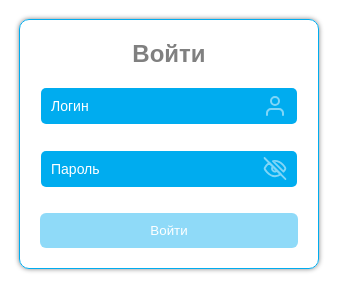
auth › We should know about typos in login or password
This screenshot has width=339, height=289.
Step 1. Type "john1" into the field named "login" → {"x": 169, "y": 107}, box x1=41 y1=89 x2=297 y2=125
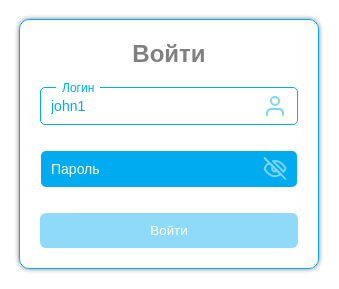
Step 2. Type "secret1" into the password field named "password" → {"x": 169, "y": 170}, box x1=41 y1=152 x2=297 y2=188
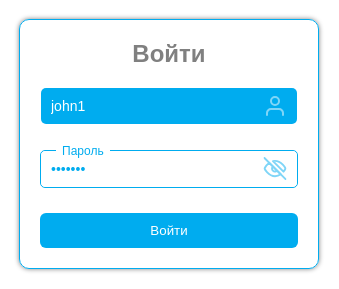
Step 3. Click the button "Войти" → {"x": 169, "y": 232}, box x1=40 y1=214 x2=298 y2=249
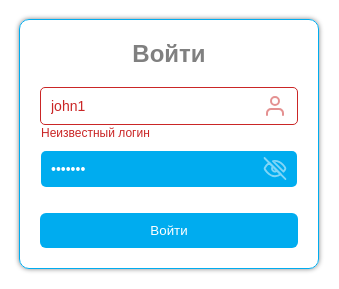
Expected: the text "Неизвестный логин" is shown, x1=41 y1=126 x2=150 y2=140
Step 4. Replace the text in the field named "login" with "john" → {"x": 169, "y": 107}, box x1=41 y1=89 x2=297 y2=125
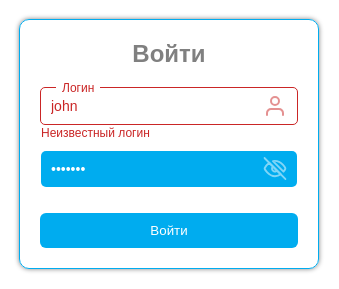
Step 5. Type "secret2" into the password field named "password" → {"x": 169, "y": 170}, box x1=41 y1=152 x2=297 y2=188
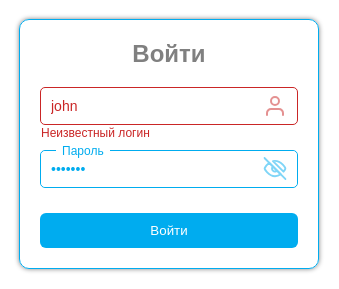
Step 6. Click the button "Войти" → {"x": 169, "y": 232}, box x1=40 y1=214 x2=298 y2=249
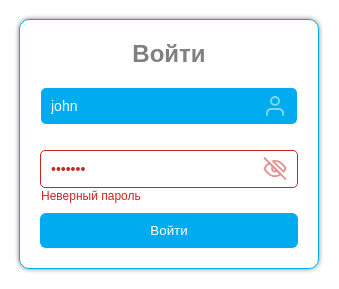
Expected: the text "Неверный пароль" is shown, x1=41 y1=190 x2=141 y2=204
